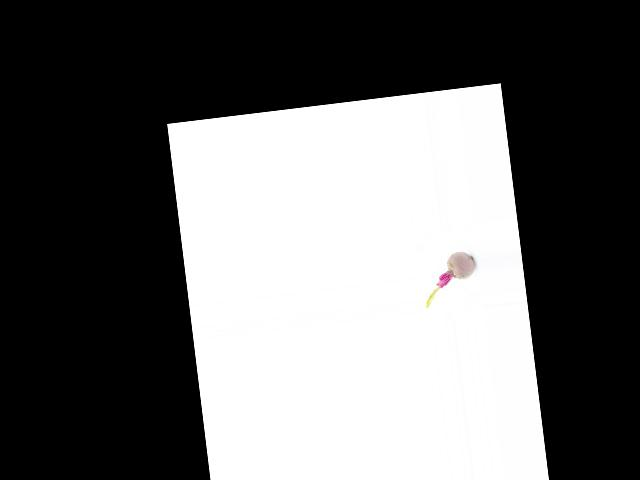beet: (420, 249, 479, 307)
